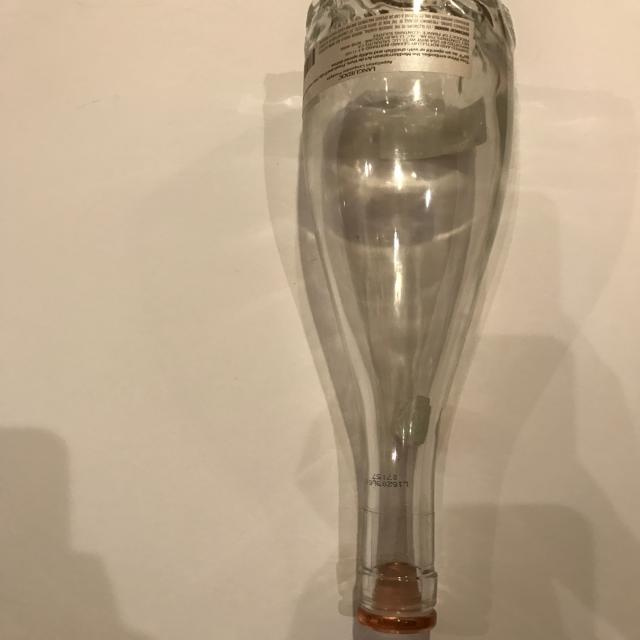Glass: (286, 0, 532, 640)
